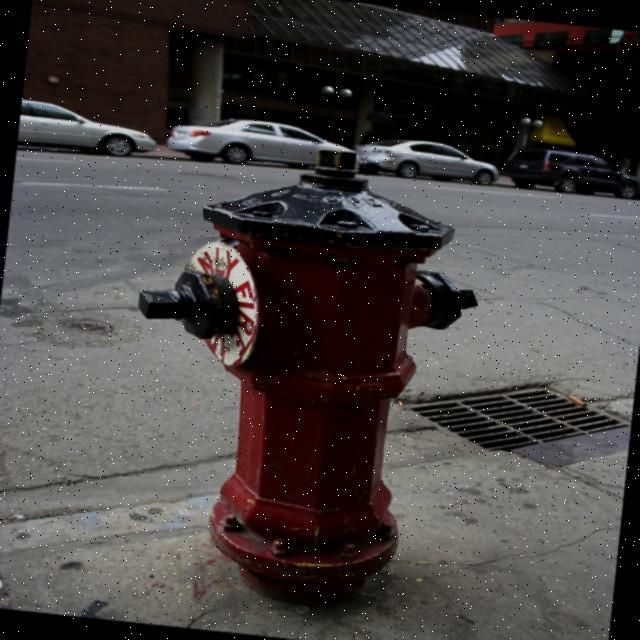fire_hydrant: (106, 128, 487, 618)
